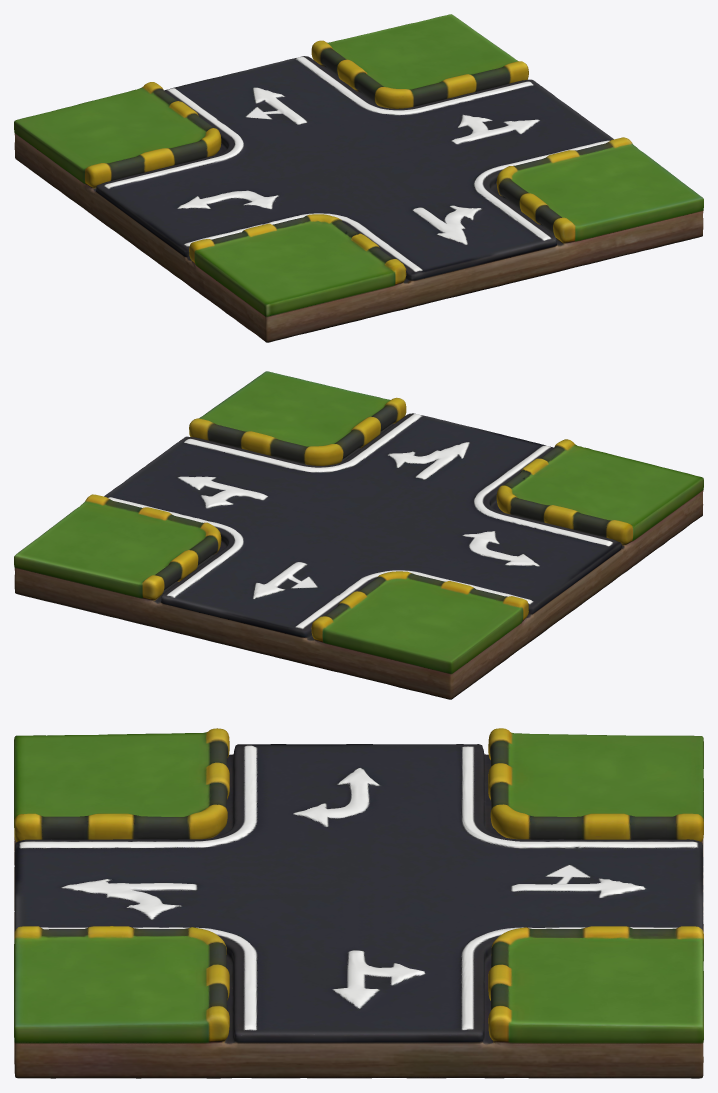
Rendered from isometric_road_tile_3d_model_1.fbx.
3 views of the same model, one above another, from view 1: azimuth 30°, elevation 25°; view 2: azimuth 150°, elevation 25°; view 3: azimuth 270°, elevation 25° (orthographic). The views are drawn at different scales.
Parts seen in each view (by area): view 1: tripo_node_94b04f96; view 2: tripo_node_94b04f96; view 3: tripo_node_94b04f96.
Boxes of the visible parts, bbox=[...] form: tripo_node_94b04f96: bbox=[14, 14, 703, 342]; tripo_node_94b04f96: bbox=[14, 371, 703, 699]; tripo_node_94b04f96: bbox=[14, 728, 703, 1078].
Size of the model in its own units: 0.9808 by 0.0974 by 0.9794.
